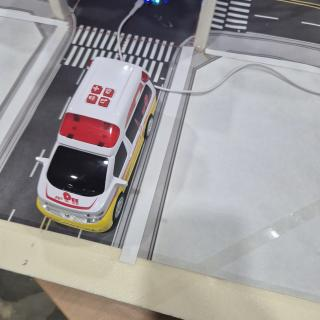Ambulance: (37, 57, 156, 232)
